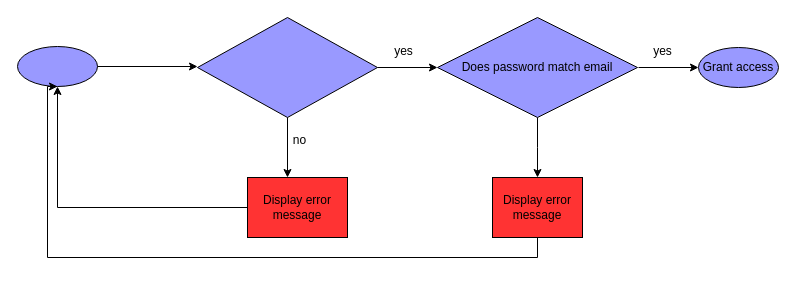
Some shapes in this 796 by 283 pixel diagram are drawn without their labels. The shapes that lost their labels are listed below. From the top down, each one's centre as x and y in pixels, then its label:
(x=57, y=66): Login
(x=287, y=67): Does email exists?
